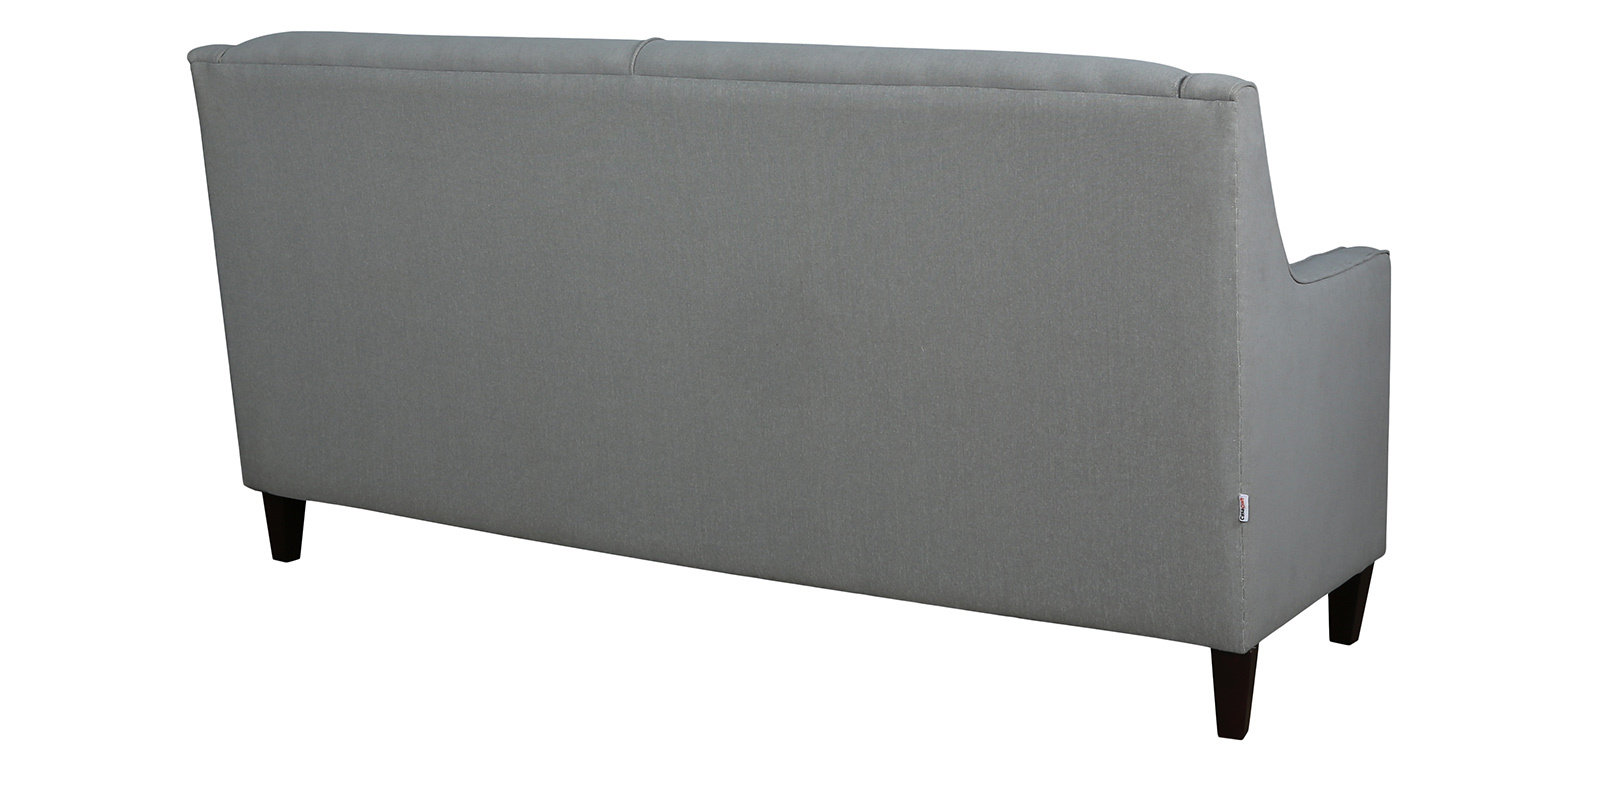Oscar Three Seater Sofa in Ash Grey Colour by CasaCraft: (189, 29, 1395, 737)
